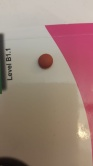Dolorex: (36, 52, 53, 70)
